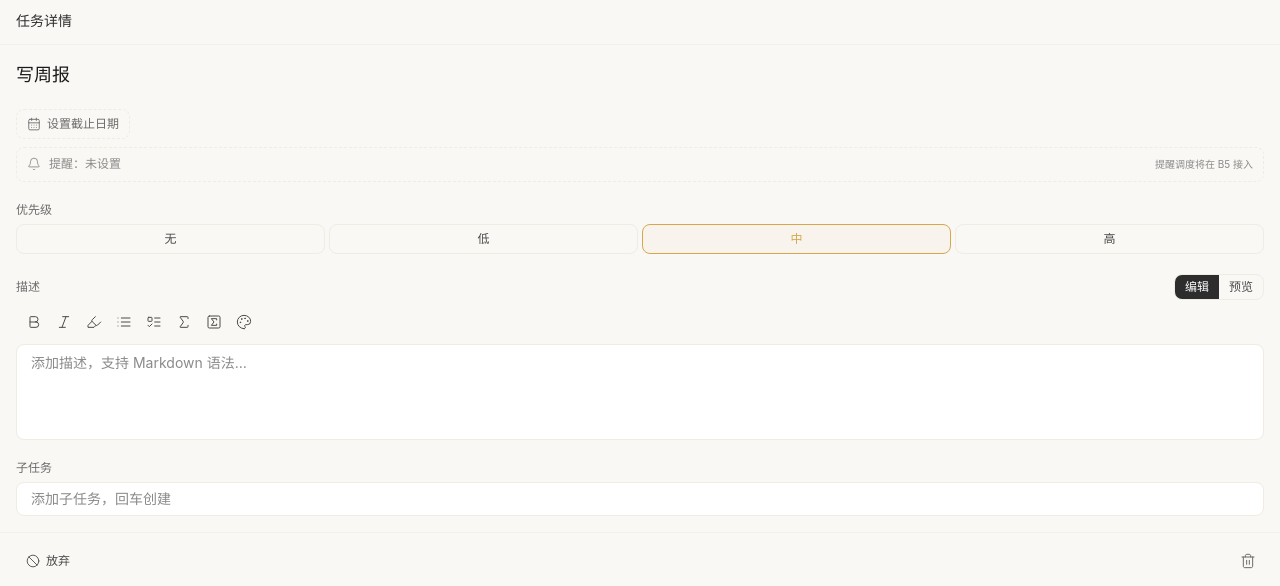
TaskDetail · 描述（D6 Markdown 双态） › 未修改描述失焦不写库；空描述预览显示占位
// 未键入内容，聚焦后失焦 → 无写库（对象引用不变）
Click the text box named "任务描述": x=640, y=392 [16,344,1264,440]
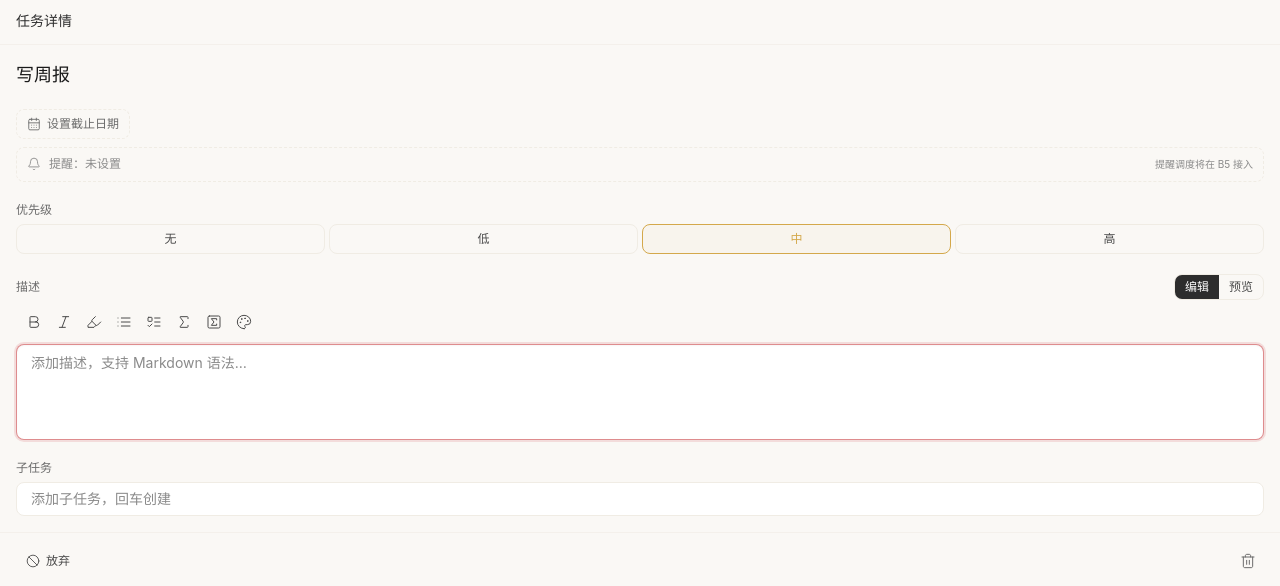
Press Tab
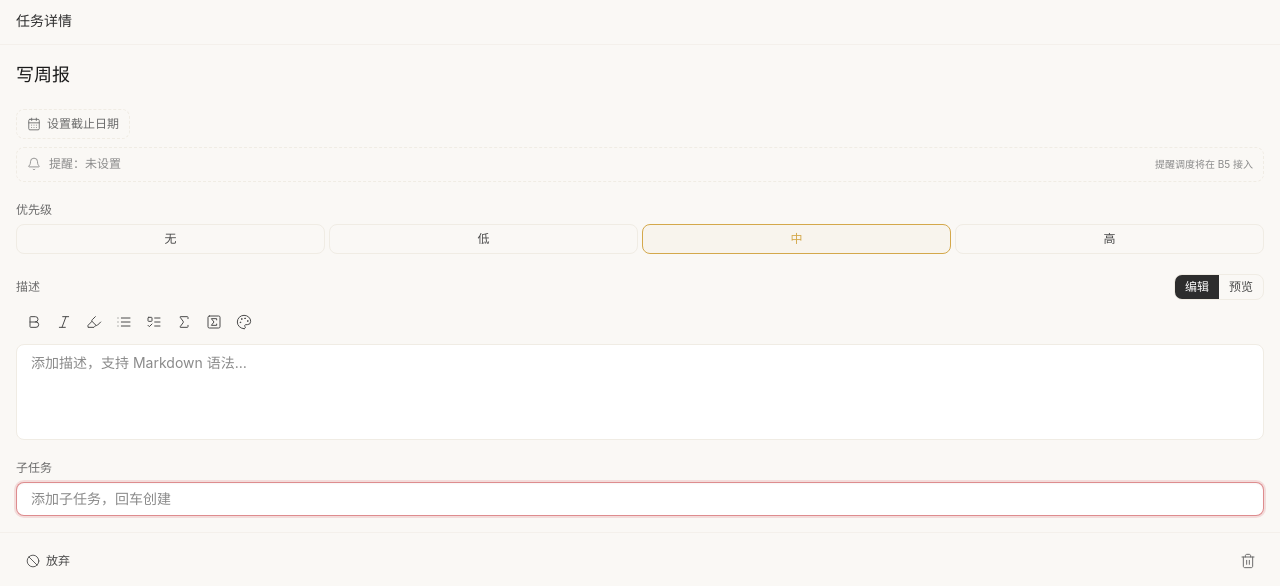
// 空描述切预览 → 占位文案（MarkdownView 懒加载，异步出现）
Click the button "预览": x=1241, y=286 [1219,274,1263,298]
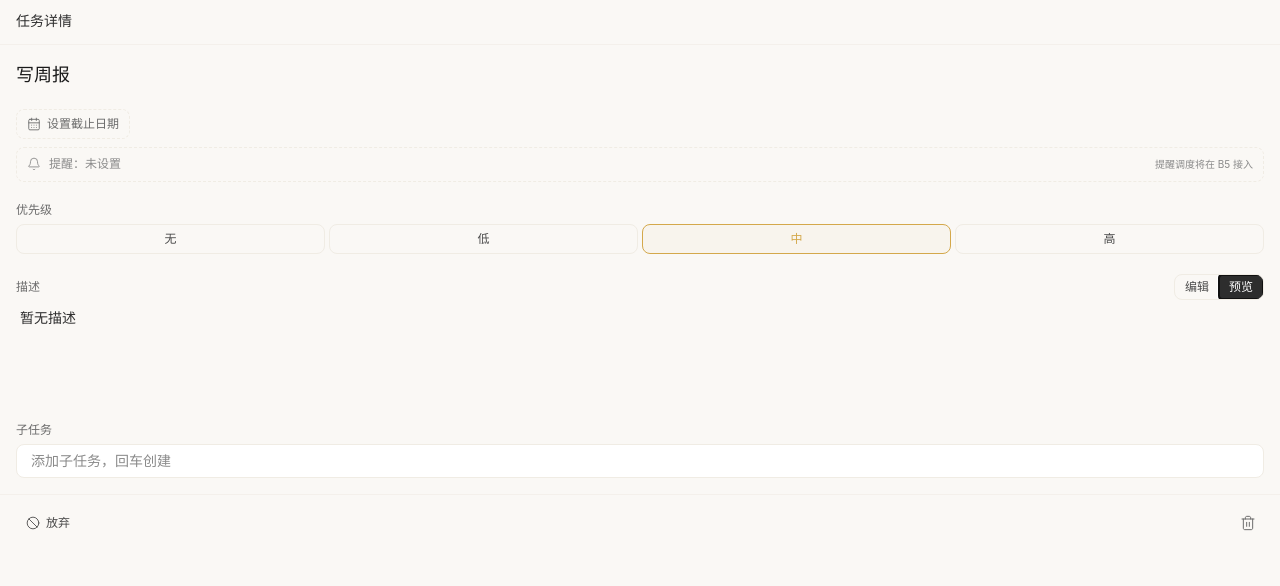
Result: the text "暂无描述" is shown at [20,308,76,326]
